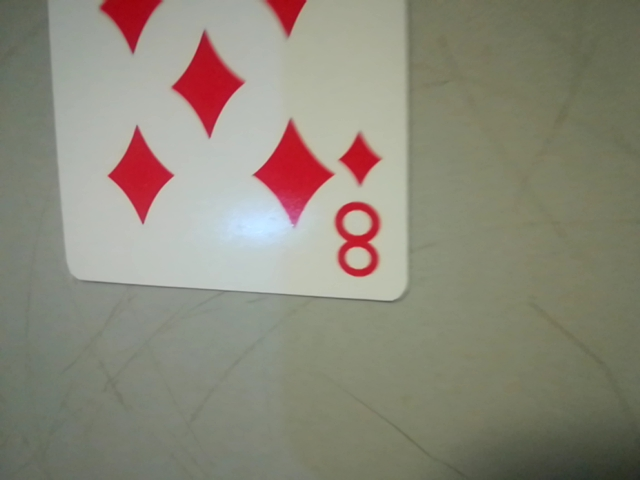fk 8: (323, 122, 399, 289)
